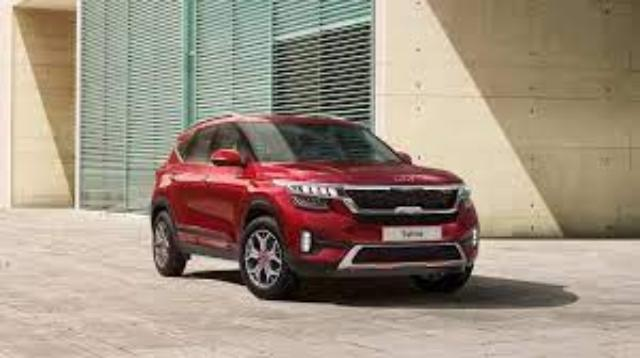kia: (150, 114, 480, 298)
